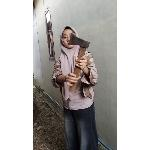Kapak: (65, 32, 93, 92)
